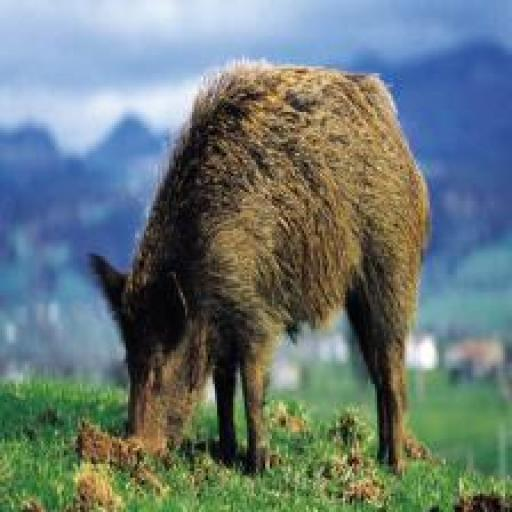Pig: (87, 57, 433, 474)
